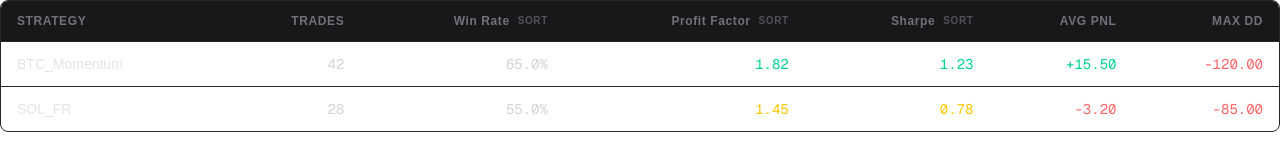
Test case: StrategyTable › sorts by win_rate DESC on first click
Click the button "Win Rate SORT" at {"x": 501, "y": 21}, box [454,13,548,29]
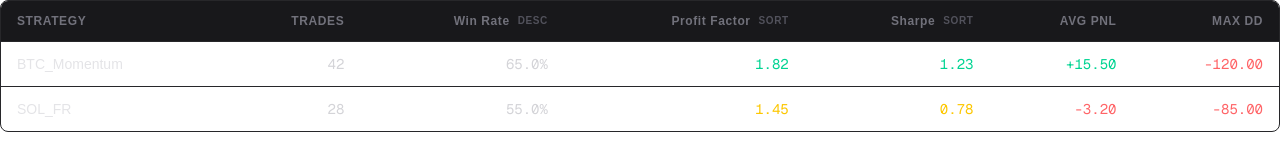
Expected: the row "BTC_Momentum 42 65.0% 1.82 1.23 +15.50 -120.00" is shown, [1,42,1279,86]
Now the text "DESC" is shown, box [518,14,548,28]
